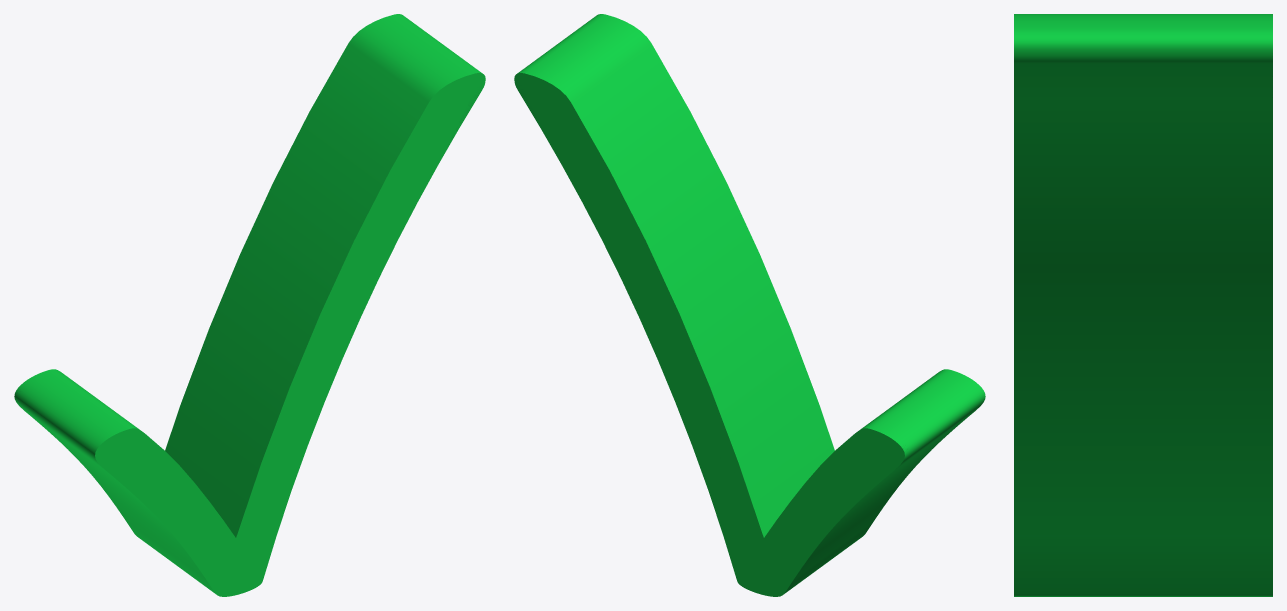
The model's file is checkmark.glb.
3 renders of one model, left to right at view 1: azimuth 30°, elevation 25°; view 2: azimuth 150°, elevation 25°; view 3: azimuth 270°, elevation 25°, orthographic. The views are drawn at different scales.
Visible parts, largest first — view 1: mesh_id51; view 2: mesh_id51; view 3: mesh_id51.
Part boxes in pixels (left/top/right/bottom): mesh_id51: left=14, top=14, right=485, bottom=596; mesh_id51: left=514, top=14, right=985, bottom=596; mesh_id51: left=1014, top=14, right=1272, bottom=596.
Bounding box in the file's own units: 0.6579 × 0.7459 × 0.2352.
Materials: 1 (1 with a texture image).
